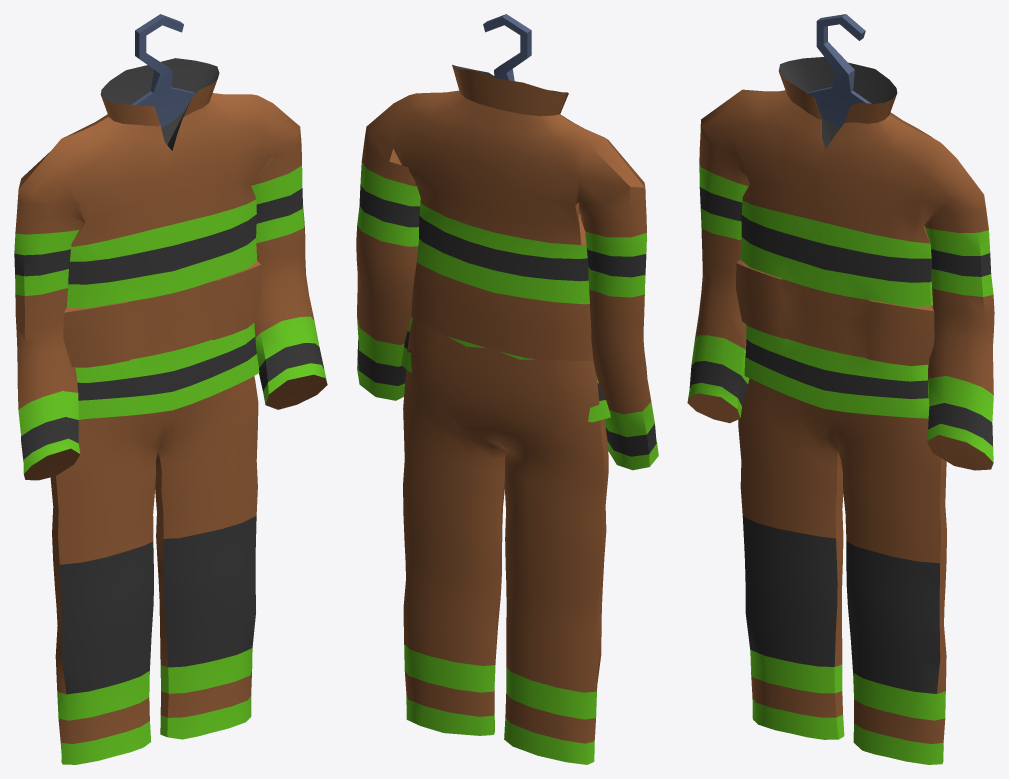
Rendered from costume_fireman.fbx.
3 renders of one model, left to right at view 1: azimuth 30°, elevation 25°; view 2: azimuth 150°, elevation 25°; view 3: azimuth 330°, elevation 25°, orthographic.
Parts seen in each view (by area): view 1: costume_doctor.001; view 2: costume_doctor.001; view 3: costume_doctor.001.
Boxes of the visible parts, x1=… form: costume_doctor.001: x1=14, y1=14, x2=327, y2=764; costume_doctor.001: x1=356, y1=14, x2=658, y2=764; costume_doctor.001: x1=687, y1=14, x2=994, y2=764.
Size of the model in its own units: 1.42 by 3.25 by 0.2657.
